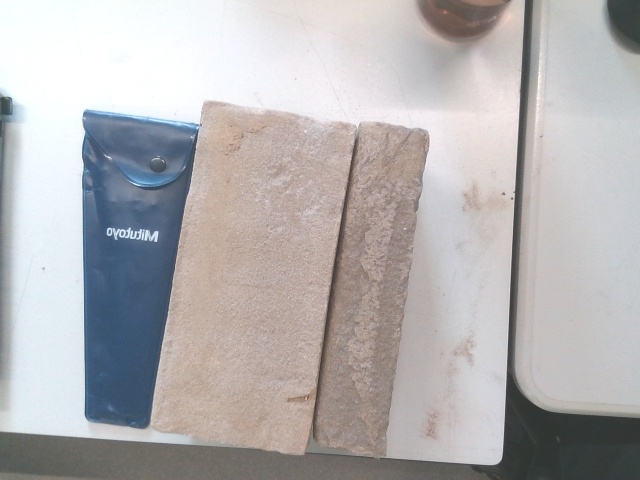brick: (150, 102, 358, 450)
